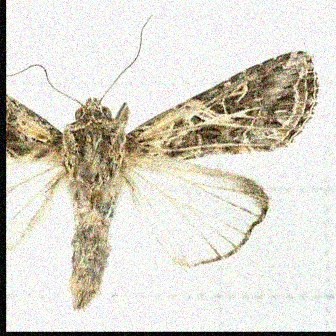Spodoptera litura: (7, 14, 320, 312)
